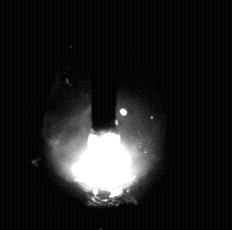arame: (92, 0, 117, 136)
poca: (41, 0, 164, 230)
